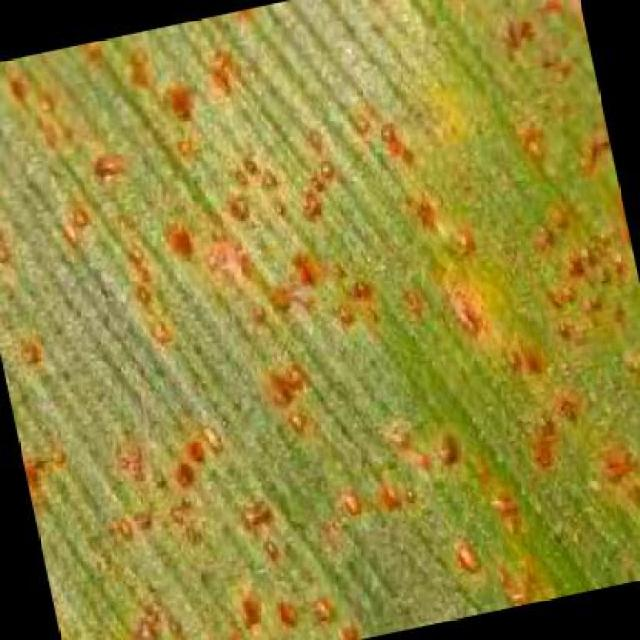Corn_Rust: (66, 57, 586, 591)
